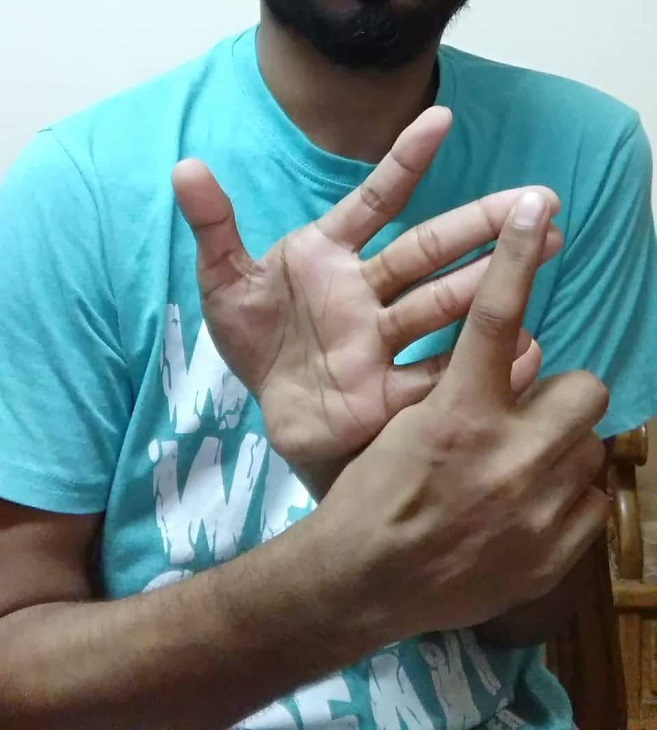u: (167, 109, 608, 516)
